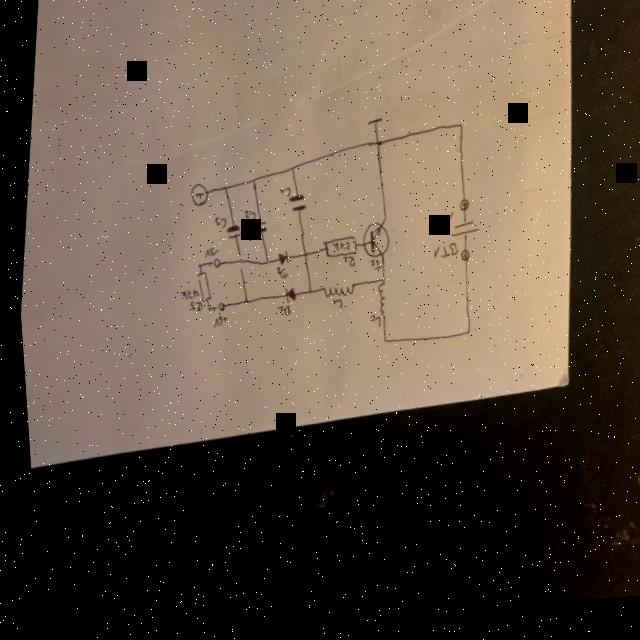capacitor: (283, 197, 304, 218), (220, 226, 238, 244), (249, 224, 264, 238)
crossover: (228, 251, 243, 276)
diode: (277, 288, 292, 308), (271, 253, 285, 271)
ground: (185, 183, 207, 210), (362, 120, 381, 135)
inductor: (315, 283, 350, 306), (368, 287, 384, 326)
junction: (301, 290, 310, 301), (284, 167, 293, 178), (217, 186, 226, 197), (373, 280, 382, 290), (297, 253, 305, 264), (371, 142, 379, 153), (454, 127, 462, 138), (246, 179, 254, 190), (237, 299, 245, 310), (377, 218, 385, 228), (258, 260, 266, 270), (200, 307, 208, 317), (458, 333, 466, 342), (191, 264, 199, 273), (375, 341, 382, 349)
resistor: (315, 236, 354, 266), (188, 272, 210, 306)
source: (444, 222, 477, 248)
text: (426, 244, 455, 268), (424, 213, 451, 236), (173, 288, 196, 305), (206, 316, 223, 333), (327, 244, 346, 258), (237, 210, 253, 226), (269, 306, 287, 320), (182, 301, 198, 316), (199, 249, 215, 263), (209, 217, 223, 233), (274, 189, 288, 202), (270, 269, 284, 282), (325, 301, 338, 315), (363, 319, 377, 332), (364, 262, 377, 276), (339, 260, 351, 273)
transistor: (356, 224, 388, 265)
